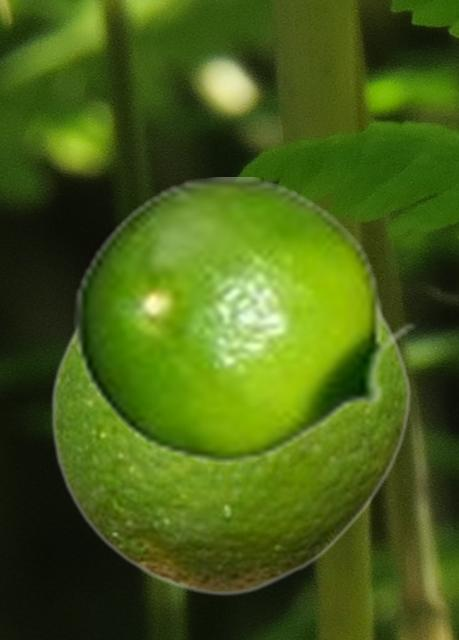calamansi: (50, 311, 410, 596), (72, 177, 418, 464)
